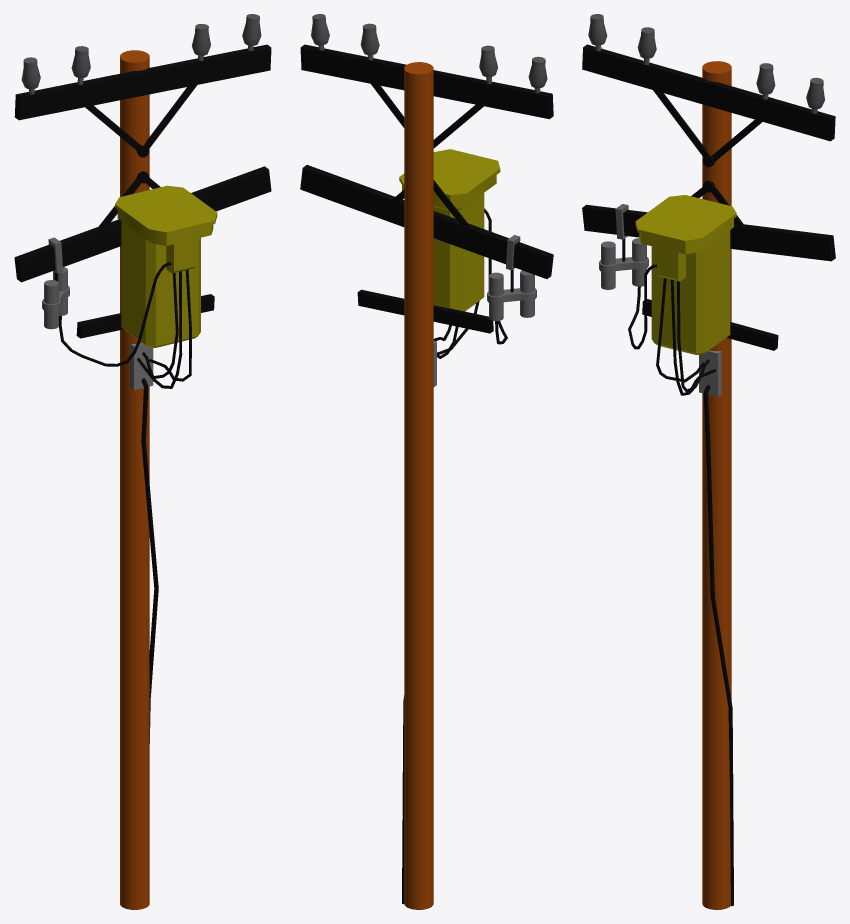
The model's file is propelectricpole.fbx.
3 renders of one model, left to right at view 1: azimuth 30°, elevation 25°; view 2: azimuth 150°, elevation 25°; view 3: azimuth 330°, elevation 25°, orthographic.
Parts seen in each view (by area): view 1: electricpole; view 2: electricpole; view 3: electricpole.
Part boxes in pixels (box(x1,y1,x2,y2)): electricpole: box(14, 14, 271, 909); electricpole: box(300, 14, 553, 909); electricpole: box(582, 14, 835, 909).
Bounding box in the file's own units: 343 × 1139 × 150.
